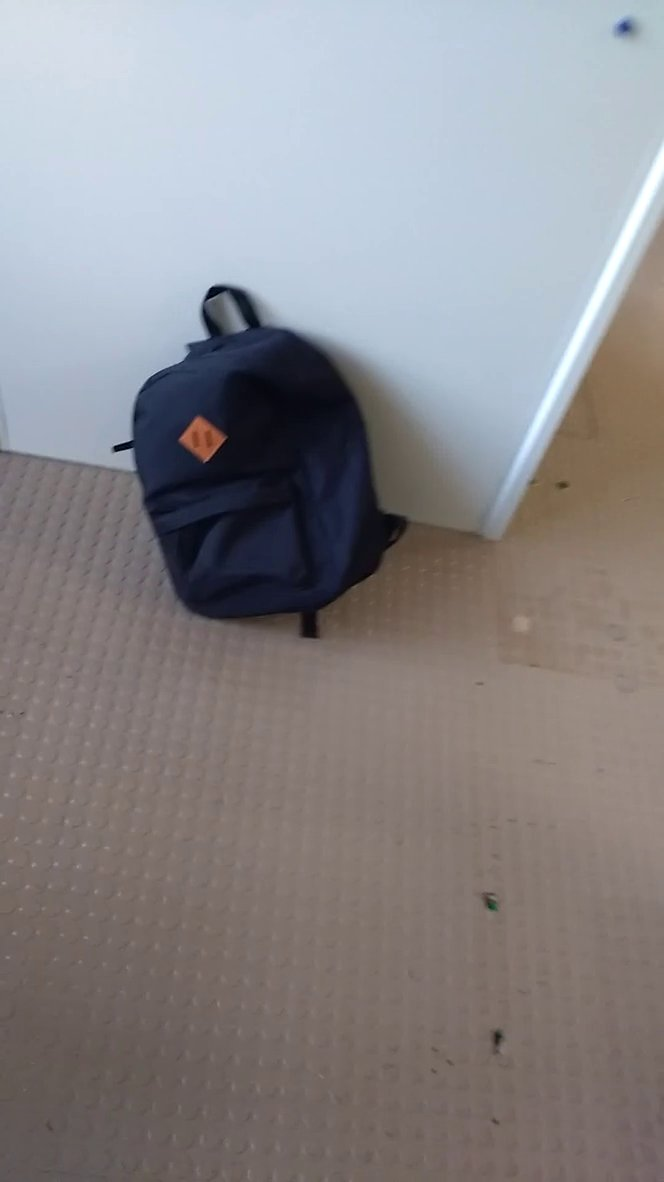bag: (105, 275, 419, 646)
